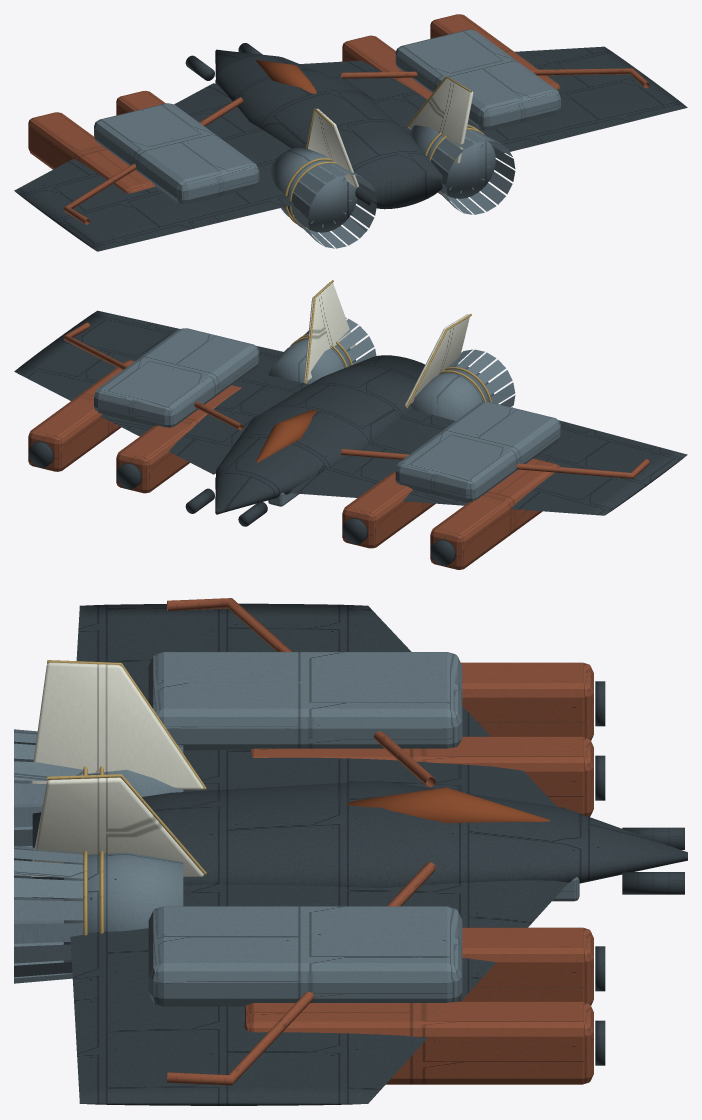
File: heavy-high.glb
3 views of the same model, one above another, from view 1: azimuth 30°, elevation 25°; view 2: azimuth 150°, elevation 25°; view 3: azimuth 270°, elevation 25° (orthographic). The views are drawn at different scales.
Parts seen in each view (by area): view 1: core-graphite-surfaces, core-titanium-surfaces, core-hostile-surfaces, core-ceramic-surfaces, core-brass-surfaces, core-enemyglass-surfaces; view 2: core-graphite-surfaces, core-titanium-surfaces, core-hostile-surfaces, core-ceramic-surfaces, core-enemyglass-surfaces, core-brass-surfaces; view 3: core-graphite-surfaces, core-titanium-surfaces, core-hostile-surfaces, core-ceramic-surfaces, core-enemyglass-surfaces, core-brass-surfaces.
Part boxes in pixels (x1,y1,x2,y2): core-graphite-surfaces: (14, 43, 687, 251); core-titanium-surfaces: (94, 29, 560, 248); core-hostile-surfaces: (28, 14, 649, 224); core-ceramic-surfaces: (308, 78, 473, 187); core-brass-surfaces: (285, 76, 488, 229); core-enemyglass-surfaces: (256, 60, 316, 93); core-graphite-surfaces: (14, 310, 687, 565); core-titanium-surfaces: (94, 318, 560, 506); core-hostile-surfaces: (28, 322, 649, 569); core-ceramic-surfaces: (303, 282, 469, 406); core-enemyglass-surfaces: (256, 409, 316, 462); core-brass-surfaces: (290, 280, 491, 408); core-graphite-surfaces: (32, 603, 687, 1105); core-titanium-surfaces: (14, 652, 579, 1006); core-hostile-surfaces: (167, 598, 593, 1085); core-ceramic-surfaces: (30, 662, 203, 876); core-enemyglass-surfaces: (346, 787, 549, 823); core-brass-surfaces: (47, 660, 206, 935).
Bounding box in the file's own units: 9.4 × 1.76 × 5.38.
6 materials, 5 textured.
